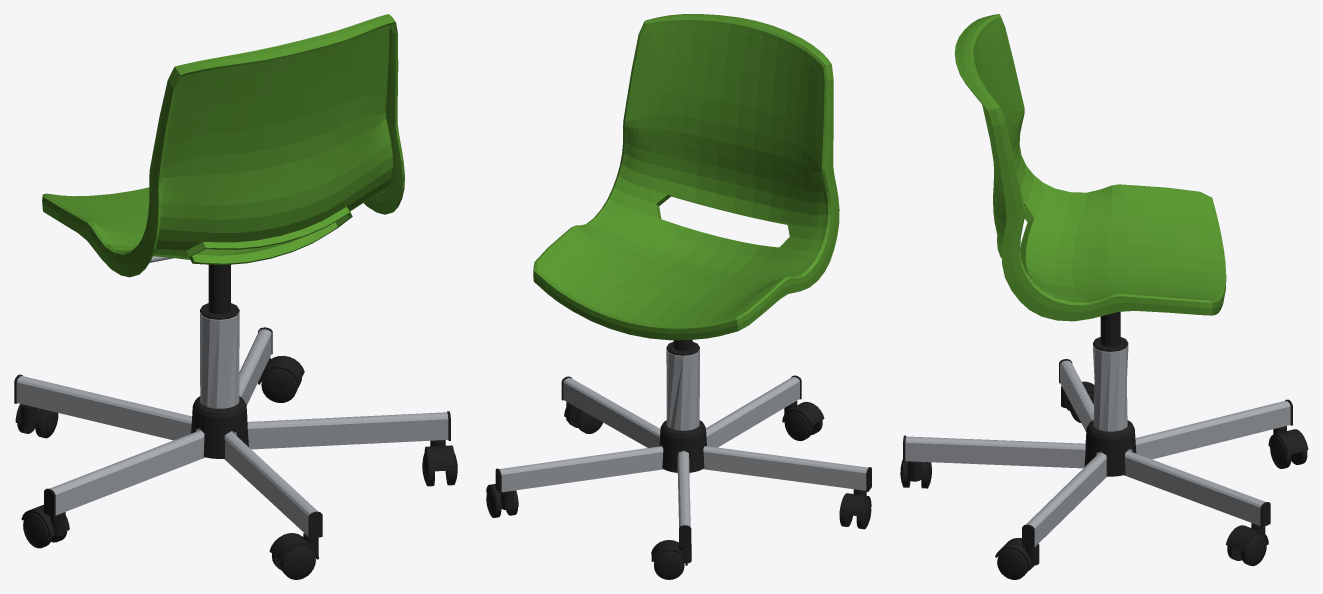
The picture shows the model from 3 angles, left to right: view 1: azimuth 30°, elevation 25°; view 2: azimuth 150°, elevation 25°; view 3: azimuth 270°, elevation 25°; orthographic projection. The views are drawn at different scales.
Parts seen in each view (by area): view 1: Mesh2 Group2 SNILLE_IKEA1 Model, Mesh8 Group6 SNILLE_IKEA1 Model, Mesh7 Group5 SNILLE_IKEA1 Model, Mesh1 Group1 SNILLE_IKEA1 Model, Mesh3 Group3 SNILLE_IKEA1 Model, Mesh22 ROULETTE5 SNILLE_IKEA1 Model, Mesh14 ROULETTE2 SNILLE_IKEA1 Model, Mesh15 ROULETTE3 SNILLE_IKEA1 Model, Mesh12 ROULETTE2 SNILLE_IKEA1 Model, Mesh20 ROULETTE4 SNILLE_IKEA1 Model, Mesh18 ROULETTE4 SNILLE_IKEA1 Model, Mesh21 ROULETTE5 SNILLE_IKEA1 Model; view 2: Mesh2 Group2 SNILLE_IKEA1 Model, Mesh8 Group6 SNILLE_IKEA1 Model, Mesh7 Group5 SNILLE_IKEA1 Model, Mesh1 Group1 SNILLE_IKEA1 Model, Mesh11 ROULETTE1 SNILLE_IKEA1 Model, Mesh13 ROULETTE2 SNILLE_IKEA1 Model, Mesh18 ROULETTE4 SNILLE_IKEA1 Model, Mesh12 ROULETTE2 SNILLE_IKEA1 Model, Mesh9 ROULETTE1 SNILLE_IKEA1 Model; view 3: Mesh2 Group2 SNILLE_IKEA1 Model, Mesh8 Group6 SNILLE_IKEA1 Model, Mesh7 Group5 SNILLE_IKEA1 Model, Mesh1 Group1 SNILLE_IKEA1 Model, Mesh3 Group3 SNILLE_IKEA1 Model, Mesh17 ROULETTE3 SNILLE_IKEA1 Model, Mesh21 ROULETTE5 SNILLE_IKEA1 Model, Mesh9 ROULETTE1 SNILLE_IKEA1 Model, Mesh23 ROULETTE5 SNILLE_IKEA1 Model, Mesh15 ROULETTE3 SNILLE_IKEA1 Model.
Part boxes in pixels (x1,y1,x2,y2): Mesh2 Group2 SNILLE_IKEA1 Model: (42, 14, 404, 277); Mesh8 Group6 SNILLE_IKEA1 Model: (14, 327, 450, 539); Mesh7 Group5 SNILLE_IKEA1 Model: (200, 312, 239, 408); Mesh1 Group1 SNILLE_IKEA1 Model: (191, 396, 248, 458); Mesh3 Group3 SNILLE_IKEA1 Model: (200, 264, 239, 319); Mesh22 ROULETTE5 SNILLE_IKEA1 Model: (261, 369, 297, 402); Mesh14 ROULETTE2 SNILLE_IKEA1 Model: (280, 545, 315, 579); Mesh15 ROULETTE3 SNILLE_IKEA1 Model: (424, 440, 455, 471); Mesh12 ROULETTE2 SNILLE_IKEA1 Model: (269, 533, 318, 561); Mesh20 ROULETTE4 SNILLE_IKEA1 Model: (23, 513, 51, 548); Mesh18 ROULETTE4 SNILLE_IKEA1 Model: (21, 504, 69, 537); Mesh21 ROULETTE5 SNILLE_IKEA1 Model: (258, 356, 304, 384); Mesh2 Group2 SNILLE_IKEA1 Model: (533, 14, 839, 340); Mesh8 Group6 SNILLE_IKEA1 Model: (495, 375, 871, 547); Mesh7 Group5 SNILLE_IKEA1 Model: (666, 349, 699, 430); Mesh1 Group1 SNILLE_IKEA1 Model: (659, 420, 706, 472); Mesh11 ROULETTE1 SNILLE_IKEA1 Model: (654, 551, 684, 579); Mesh13 ROULETTE2 SNILLE_IKEA1 Model: (784, 411, 812, 441); Mesh18 ROULETTE4 SNILLE_IKEA1 Model: (839, 489, 871, 516); Mesh12 ROULETTE2 SNILLE_IKEA1 Model: (782, 401, 824, 426); Mesh9 ROULETTE1 SNILLE_IKEA1 Model: (651, 540, 691, 565); Mesh2 Group2 SNILLE_IKEA1 Model: (954, 14, 1226, 321); Mesh8 Group6 SNILLE_IKEA1 Model: (903, 359, 1292, 549); Mesh7 Group5 SNILLE_IKEA1 Model: (1093, 345, 1128, 431); Mesh1 Group1 SNILLE_IKEA1 Model: (1084, 420, 1136, 476); Mesh3 Group3 SNILLE_IKEA1 Model: (1093, 311, 1128, 351); Mesh17 ROULETTE3 SNILLE_IKEA1 Model: (997, 549, 1028, 579); Mesh21 ROULETTE5 SNILLE_IKEA1 Model: (1226, 523, 1268, 551); Mesh9 ROULETTE1 SNILLE_IKEA1 Model: (1268, 426, 1308, 455); Mesh23 ROULETTE5 SNILLE_IKEA1 Model: (1241, 534, 1266, 566); Mesh15 ROULETTE3 SNILLE_IKEA1 Model: (995, 538, 1039, 567).
Bounding box in the file's own units: 0.5901 × 0.7242 × 0.5939.
